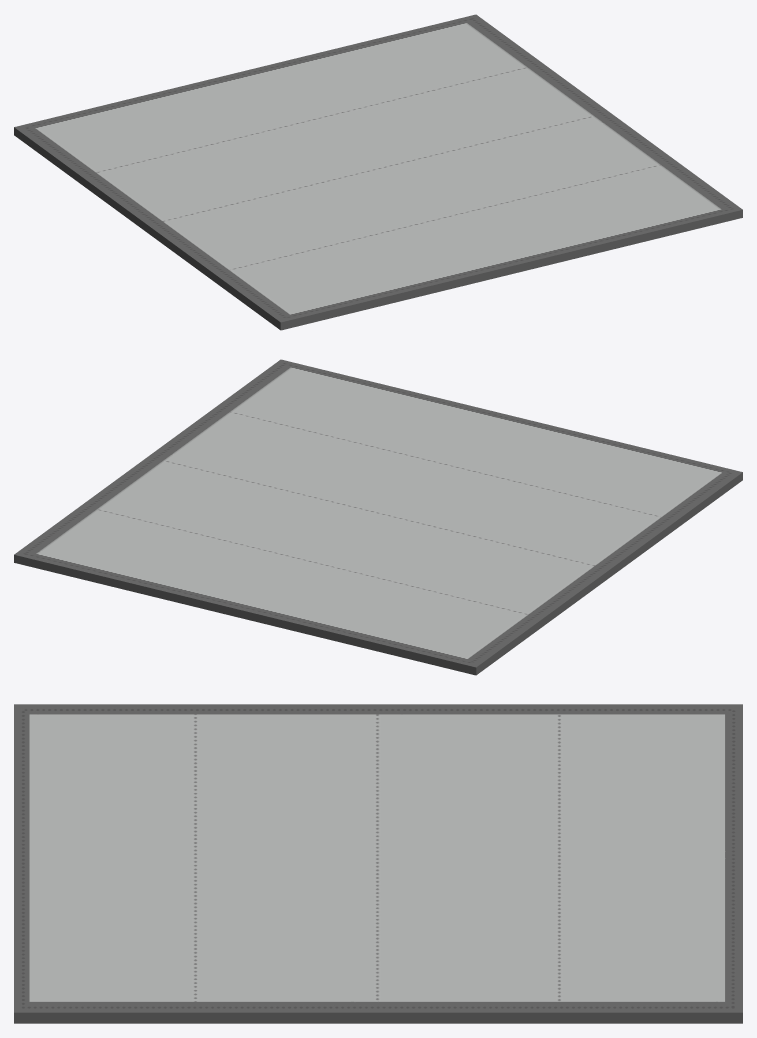
Rendered from New Floor.fbx.
3 renders of one model, top to bottom at view 1: azimuth 30°, elevation 25°; view 2: azimuth 150°, elevation 25°; view 3: azimuth 270°, elevation 25°, orthographic. The views are drawn at different scales.
Parts seen in each view (by area): view 1: Floor Piece; view 2: Floor Piece; view 3: Floor Piece.
Part boxes in pixels (x1,y1,x2,y2): Floor Piece: (14, 14, 742, 330); Floor Piece: (14, 359, 742, 675); Floor Piece: (14, 704, 742, 1023).
Size of the model in its own units: 1500 by 25 by 1500.
